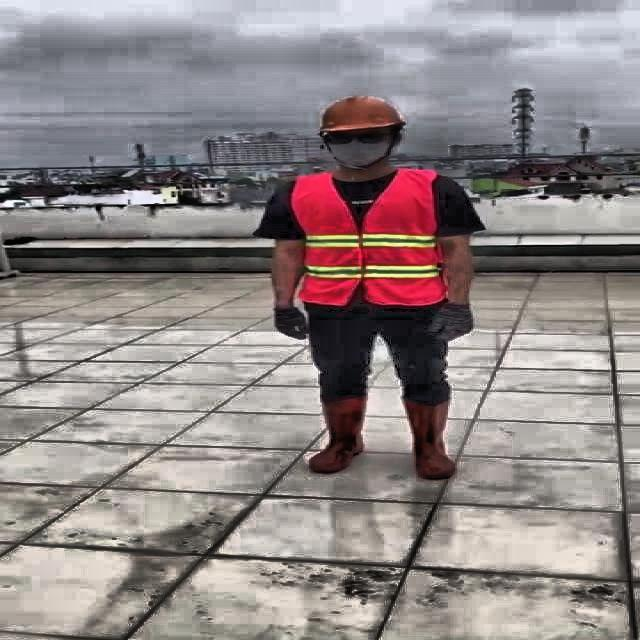safety_helmet: (315, 95, 404, 134)
safety_jacket: (293, 169, 459, 306)
